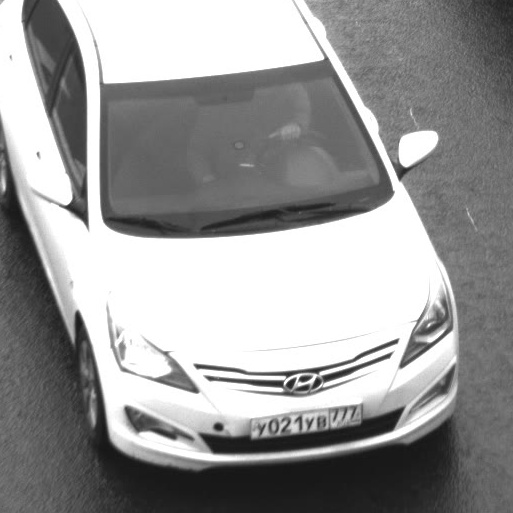plate: (238, 390, 371, 447)
